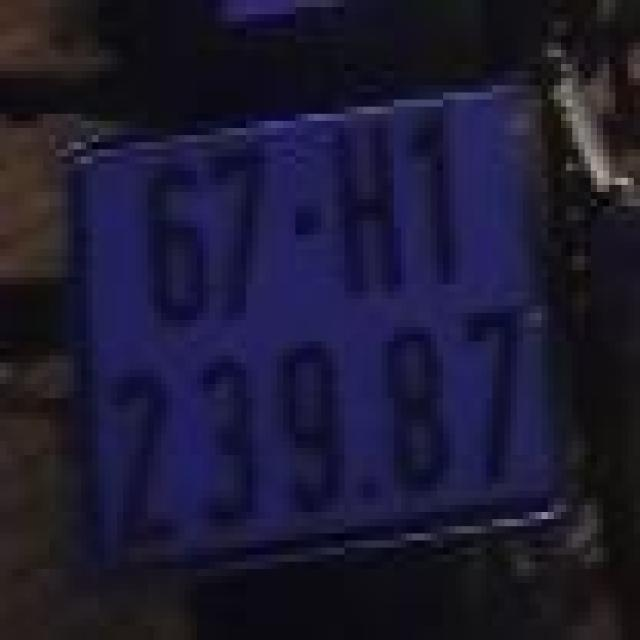1: (400, 110, 480, 295)
2: (104, 362, 190, 554)
3: (188, 356, 268, 534)
6: (138, 157, 212, 327)
7: (456, 302, 542, 494), (209, 142, 277, 320)
8: (372, 320, 452, 498)
9: (274, 341, 354, 519)
H: (317, 125, 415, 302)
